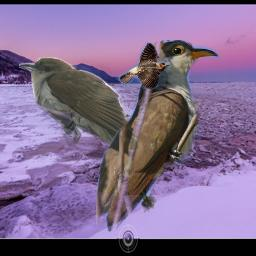Cuckoo: (96, 40, 248, 232), (19, 57, 154, 211)
Swallow: (119, 42, 171, 89)
